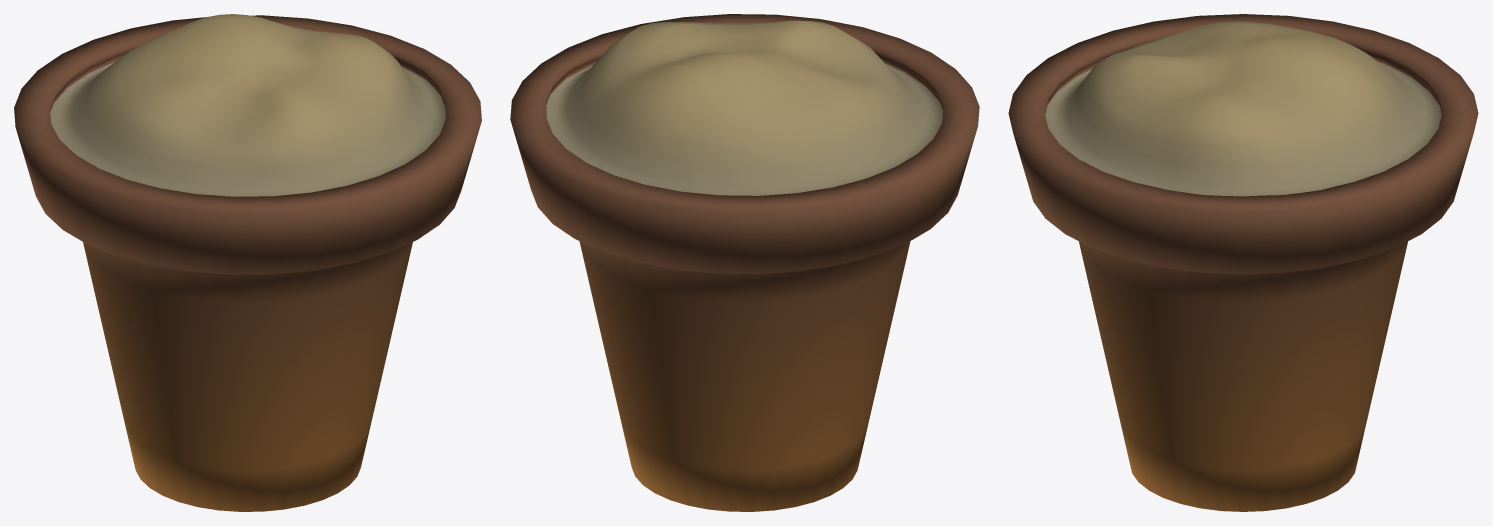
Rendered from pot.fbx.
3 renders of one model, left to right at view 1: azimuth 30°, elevation 25°; view 2: azimuth 150°, elevation 25°; view 3: azimuth 270°, elevation 25°, orthographic.
Parts seen in each view (by area): view 1: Pot; view 2: Pot; view 3: Pot.
Part boxes in pixels (box(x1,y1,x2,y2)): Pot: box(14, 14, 481, 511); Pot: box(510, 14, 979, 511); Pot: box(1008, 14, 1478, 511).
Size of the model in its own units: 242 by 237 by 242.
